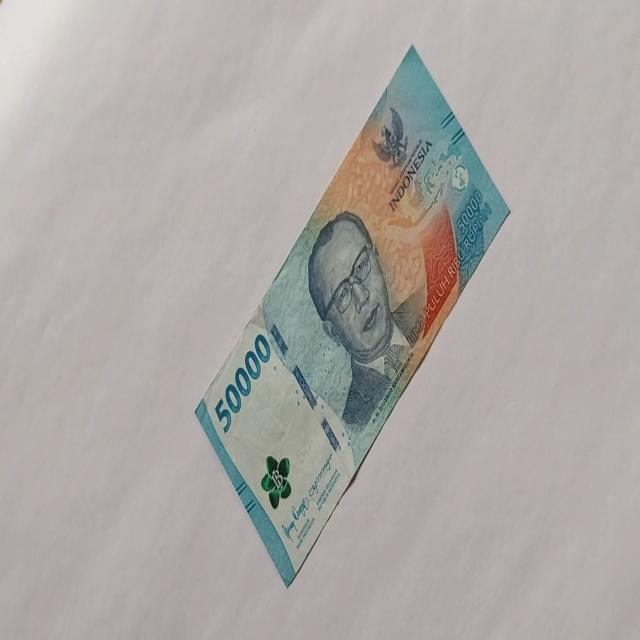lima puluh ribu rupiah: (193, 41, 511, 588), (306, 208, 416, 434), (213, 332, 271, 434)
